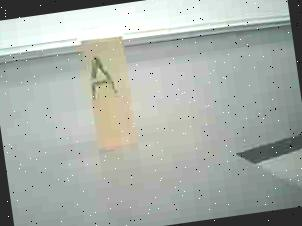Bottle A: (71, 18, 148, 157)
